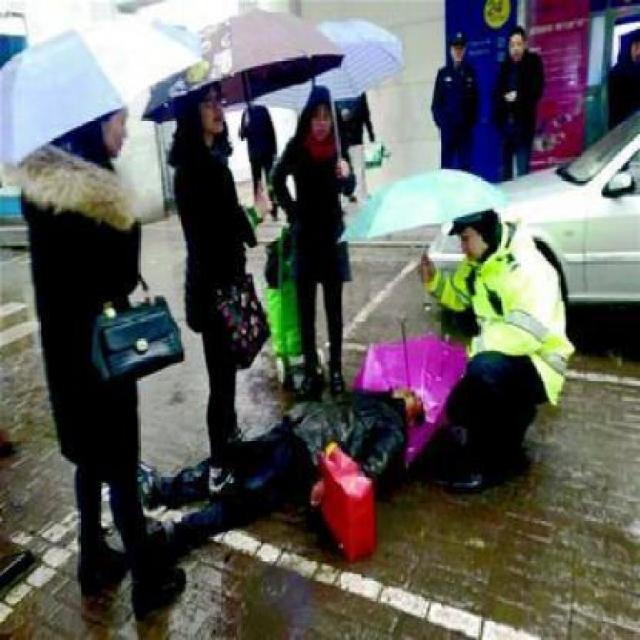fall: (127, 358, 439, 564)
